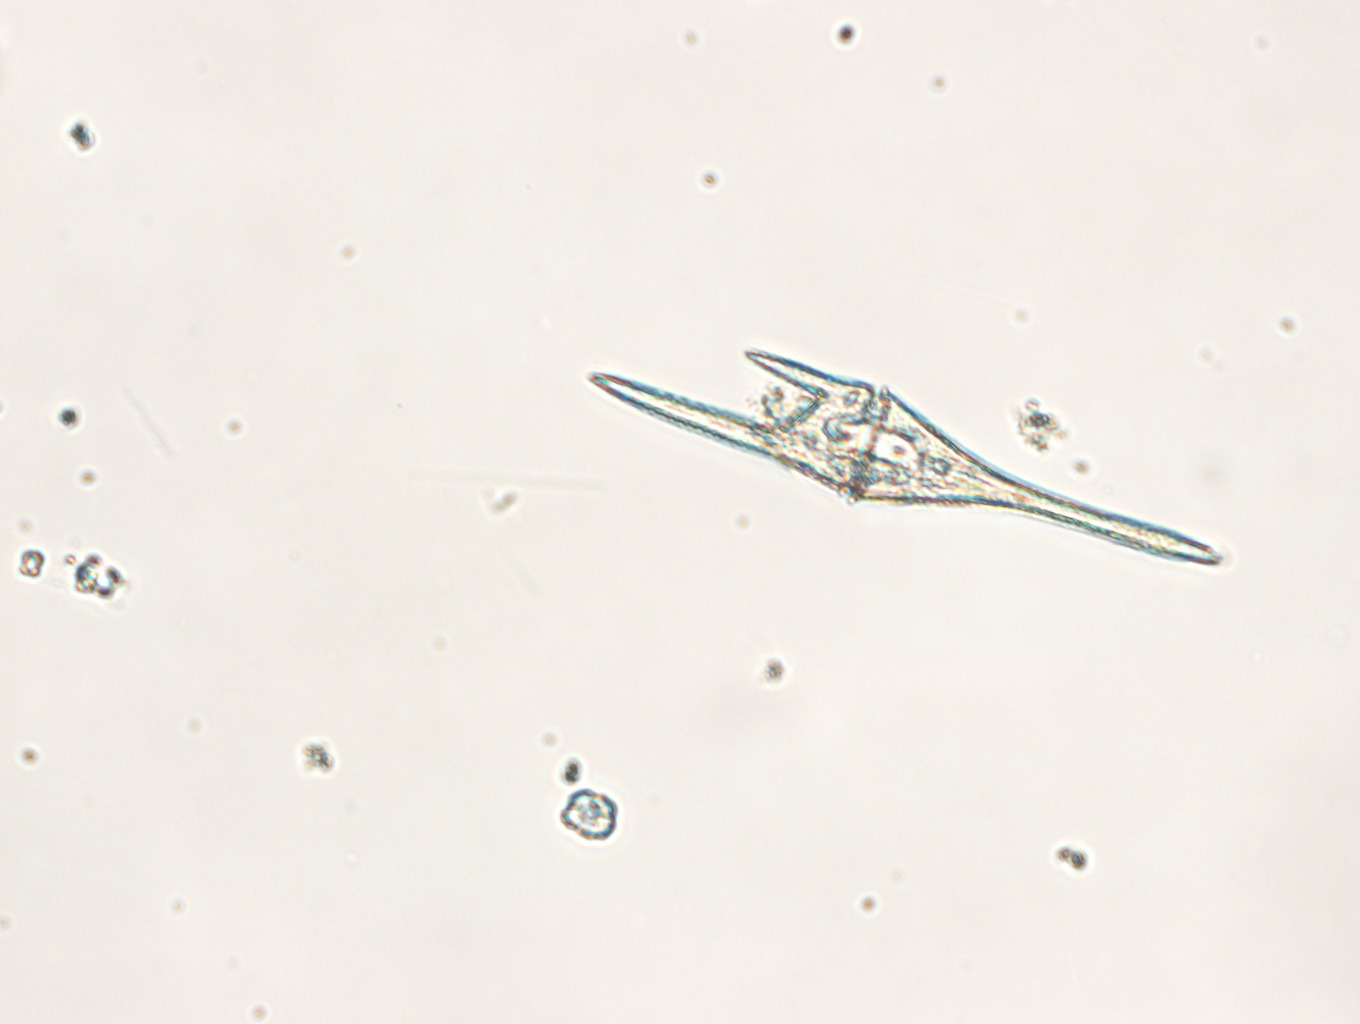ceratium furca: (589, 349, 1222, 567)
